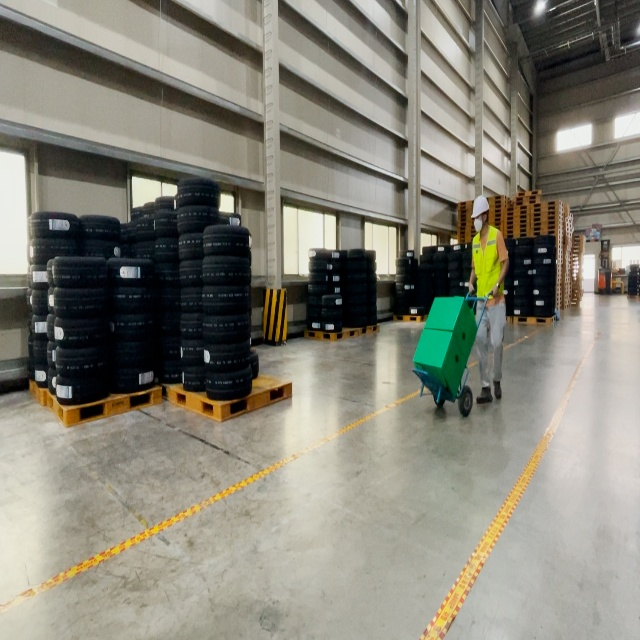Box: (412, 327, 466, 401), (423, 296, 479, 363)
Worker: (469, 195, 510, 404)
